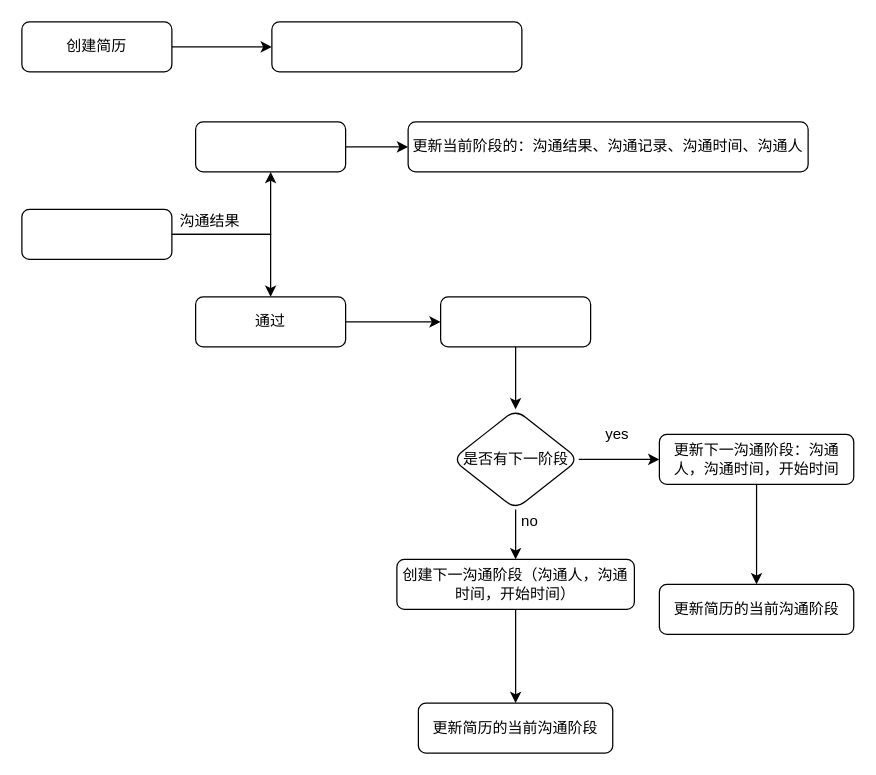
The diagram is 876 pixels wide and 775 high, and some of its shapes have lost their labels. Each missing label, with the centre of its shape:
"再次沟通" goes at point 270,146.
"更新当前阶段的：沟通结果、沟通记录" goes at point 515,321.
"触发创建沟通阶段【创建简历】" goes at point 396,46.
"进入下一阶段" goes at point 96,233.
